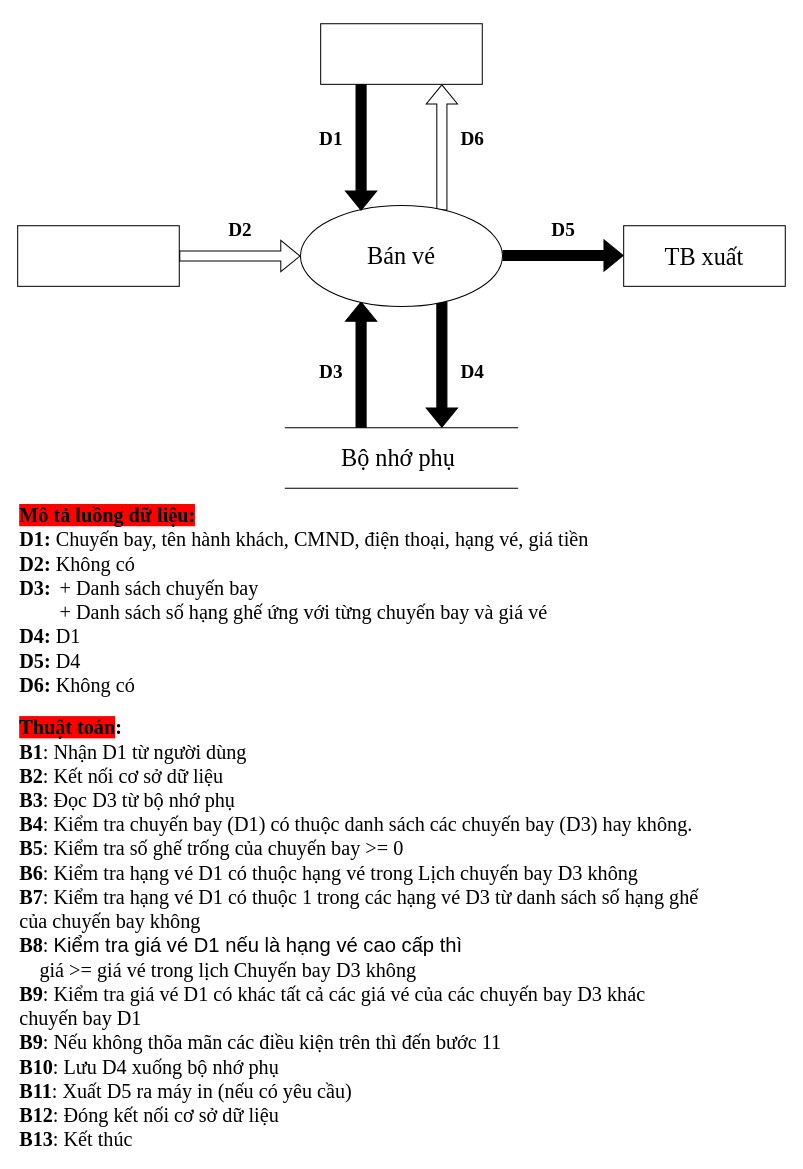
This 803x1169 diagram has some shape labels left out. The shapes that lost their labels are listed below. From the top down, each one's centre as x and y in pixels, then its label:
At (401,53): "Người dùng".
At (98,255): "TB nhập".
